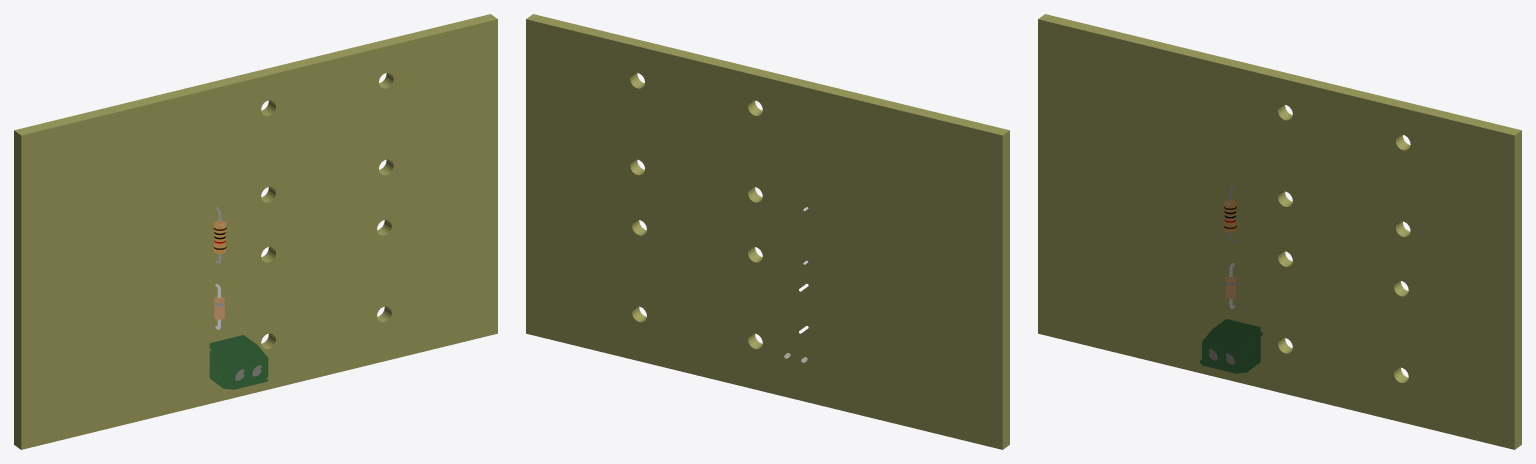
File: OBJ_PCB_Proyek6_remotecontrol_v01_2.obj
3 renders of one model, left to right at view 1: azimuth 30°, elevation 25°; view 2: azimuth 150°, elevation 25°; view 3: azimuth 330°, elevation 25°, orthographic.
Size of the model in its own units: 385 by 242 by 53.94.
